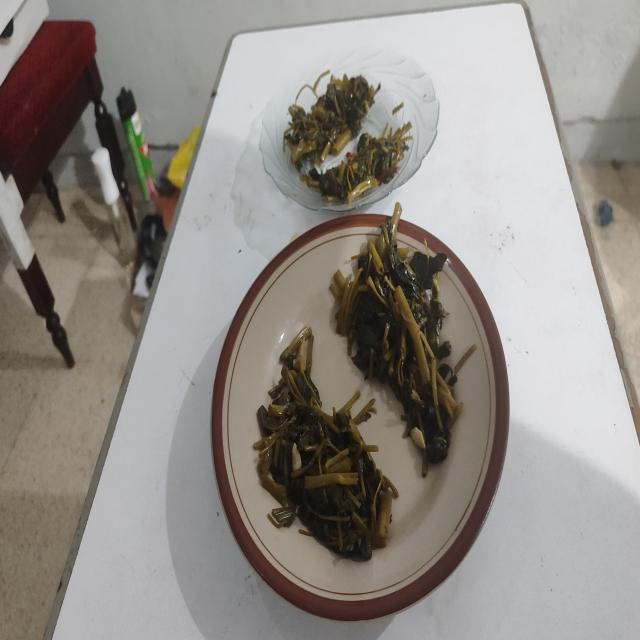tumis_kangkung: (331, 220, 464, 462), (253, 340, 398, 560), (284, 75, 381, 172), (318, 122, 412, 205)
